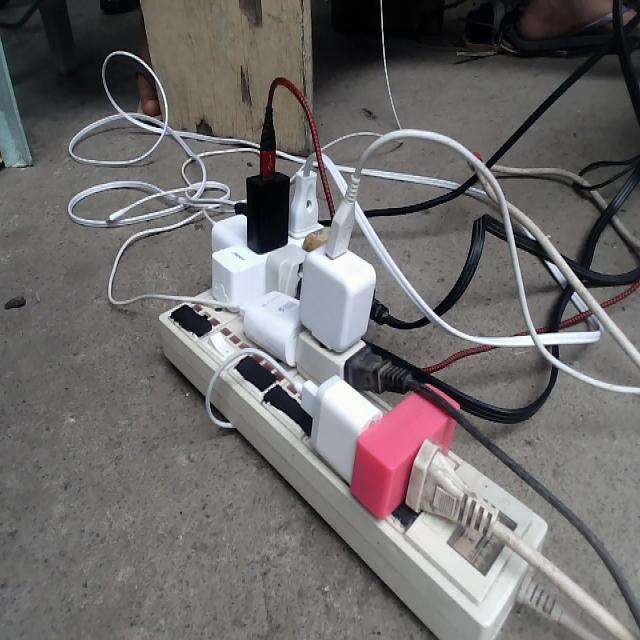-: (156, 169, 547, 635)
